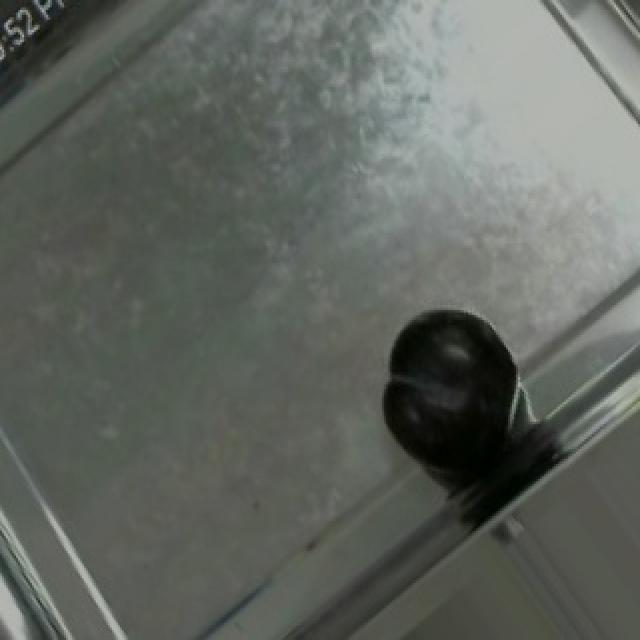Fruit: (362, 287, 544, 508)
